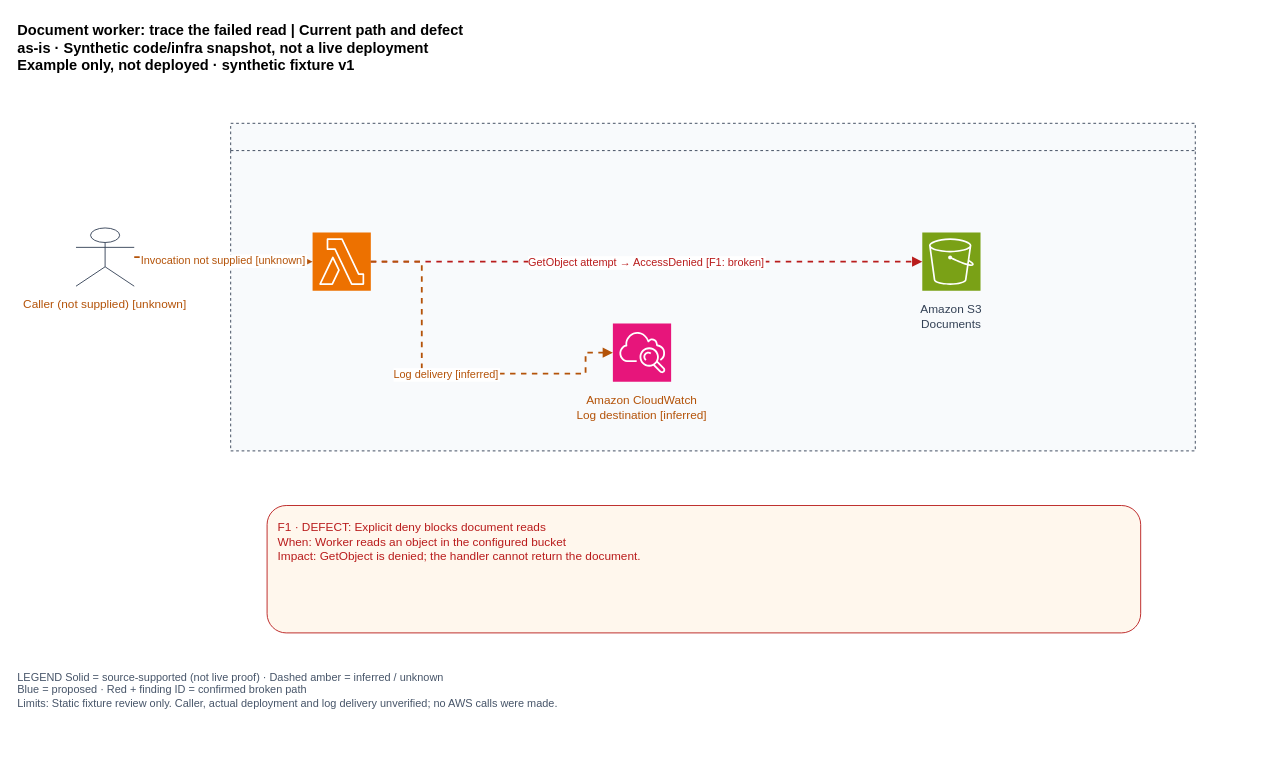
The diagram is 1261 pixels wide and 780 high, and some of its shapes have lost their labels. Here are the shapes that lost their labels. From the top down, the box of each, then its label:
(312, 232, 371, 291): AWS Lambda Document worker
(230, 122, 1195, 451): Example application · logical boundary, not a VPC
